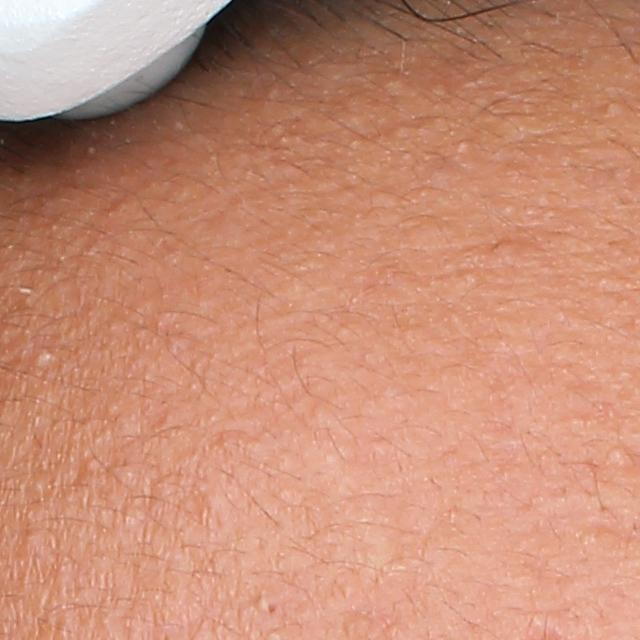comedo: (193, 484, 232, 518), (30, 343, 56, 376), (253, 596, 278, 618), (455, 137, 469, 152)
